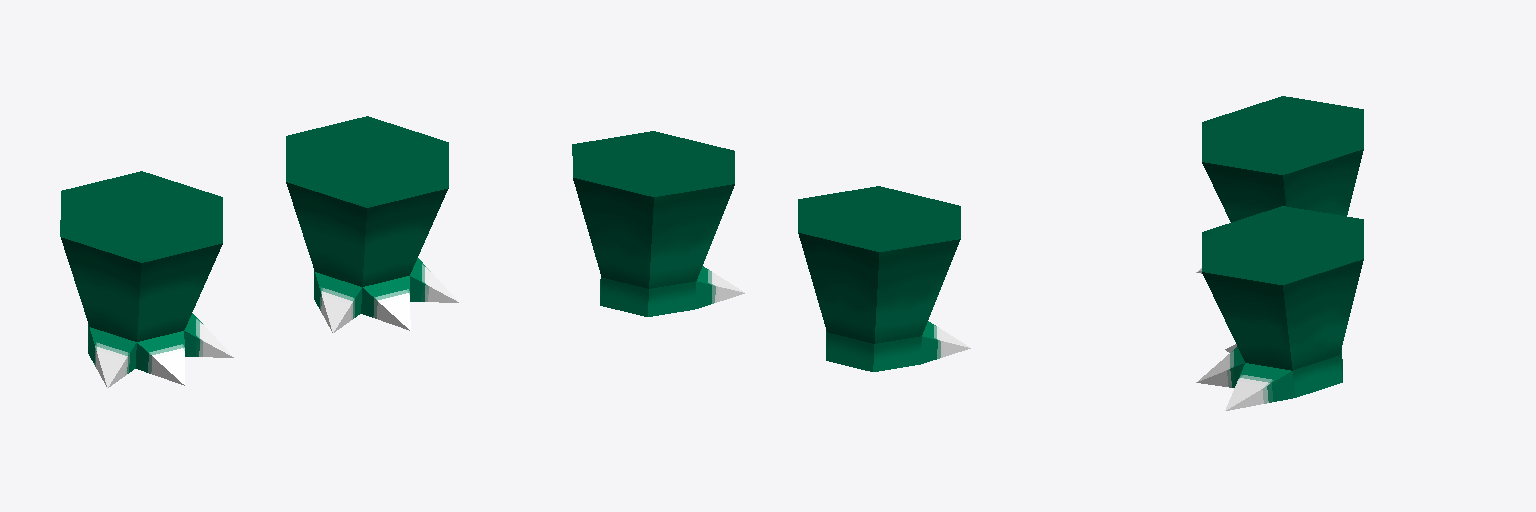
3 views of the same model, side by side, from view 1: azimuth 30°, elevation 25°; view 2: azimuth 150°, elevation 25°; view 3: azimuth 270°, elevation 25° (orthographic).
Visible parts, largest first — view 1: FootOriginal4; view 2: FootOriginal4; view 3: FootOriginal4.
Boxes of the visible parts, x1=… form: FootOriginal4: x1=60, y1=116, x2=458, y2=388; FootOriginal4: x1=572, y1=131, x2=970, y2=371; FootOriginal4: x1=1196, y1=96, x2=1363, y2=410.
Bounding box in the file's own units: 1.4 × 0.4942 × 0.5236.
Materials: 1 (1 with a texture image).